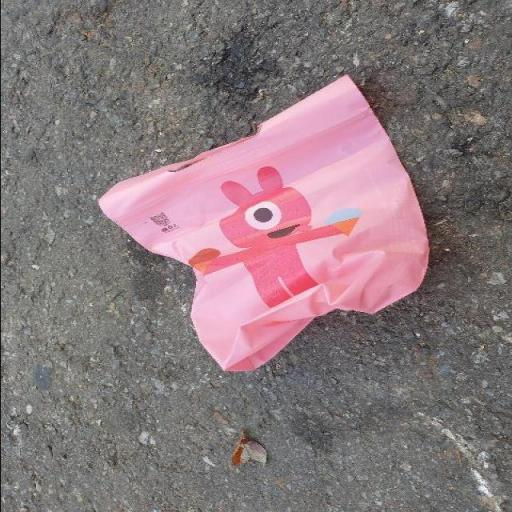plastic-bag: (95, 74, 431, 373)
